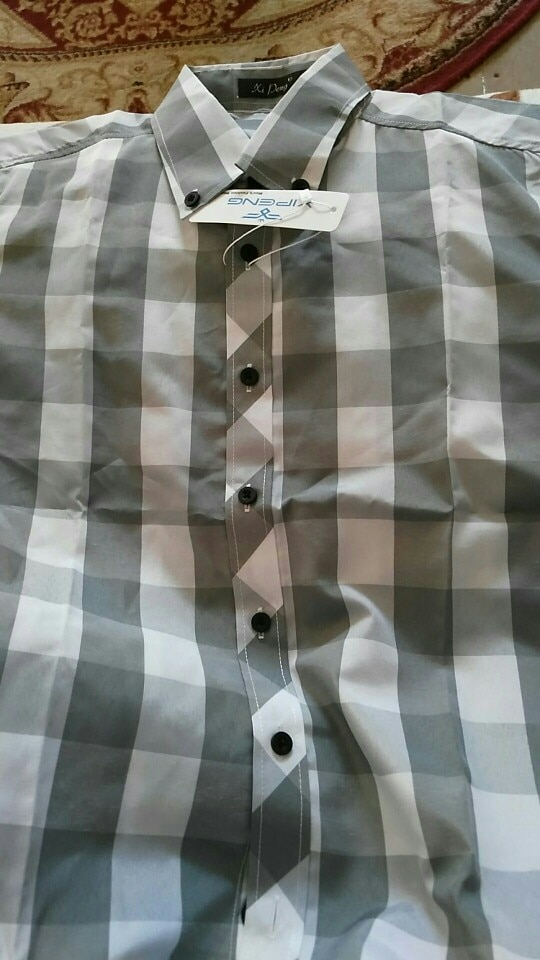shirts: (15, 48, 540, 958)
